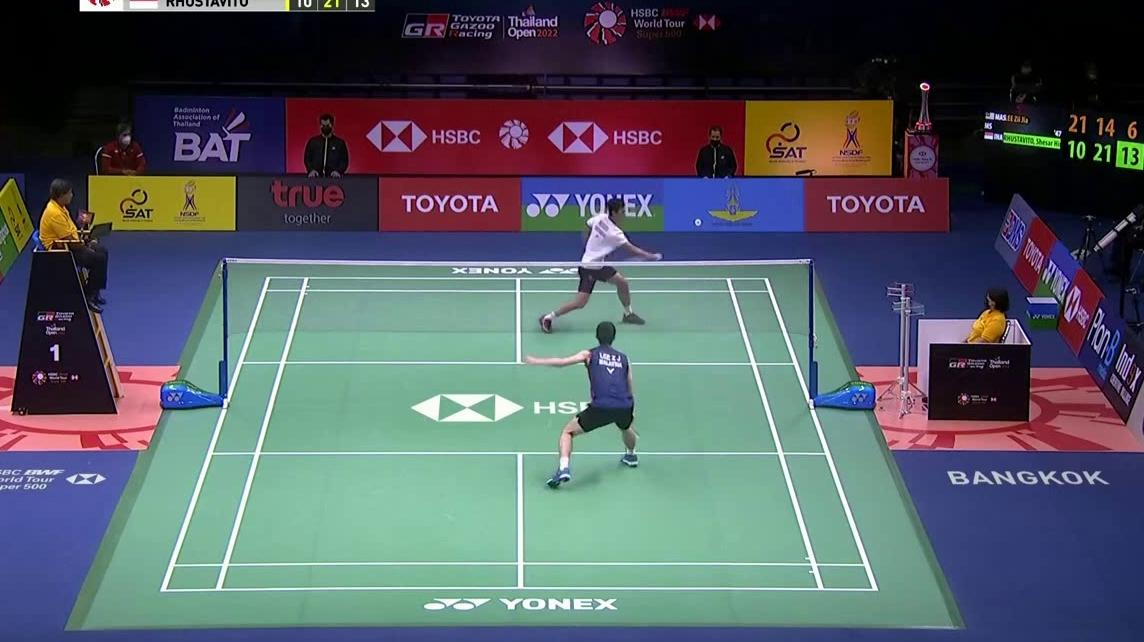racket: (619, 251, 673, 270), (630, 396, 644, 442)
shuttle: (692, 218, 704, 228)
